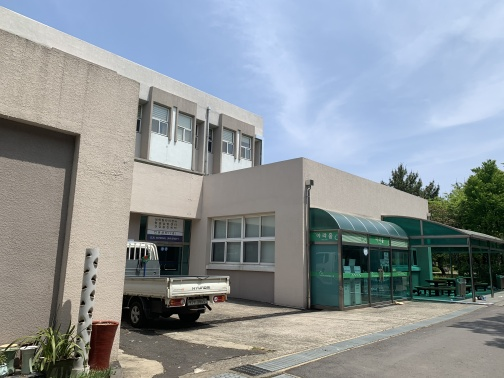Ara Hall: (302, 185, 500, 318)
